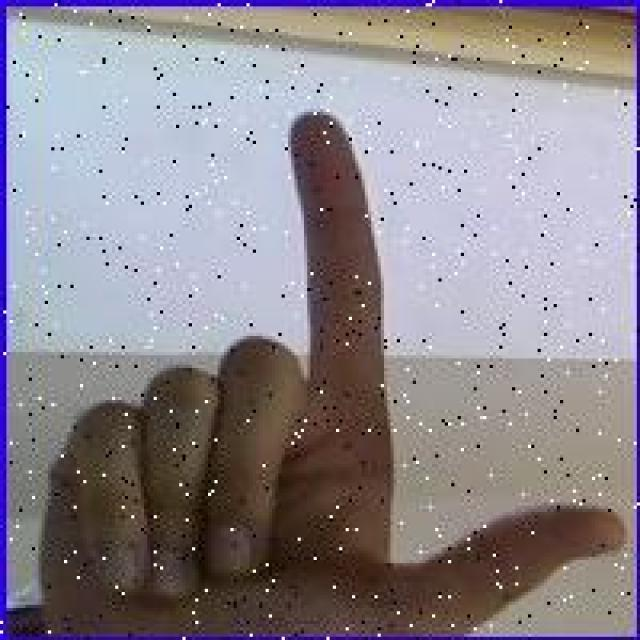L: (18, 98, 622, 635)
